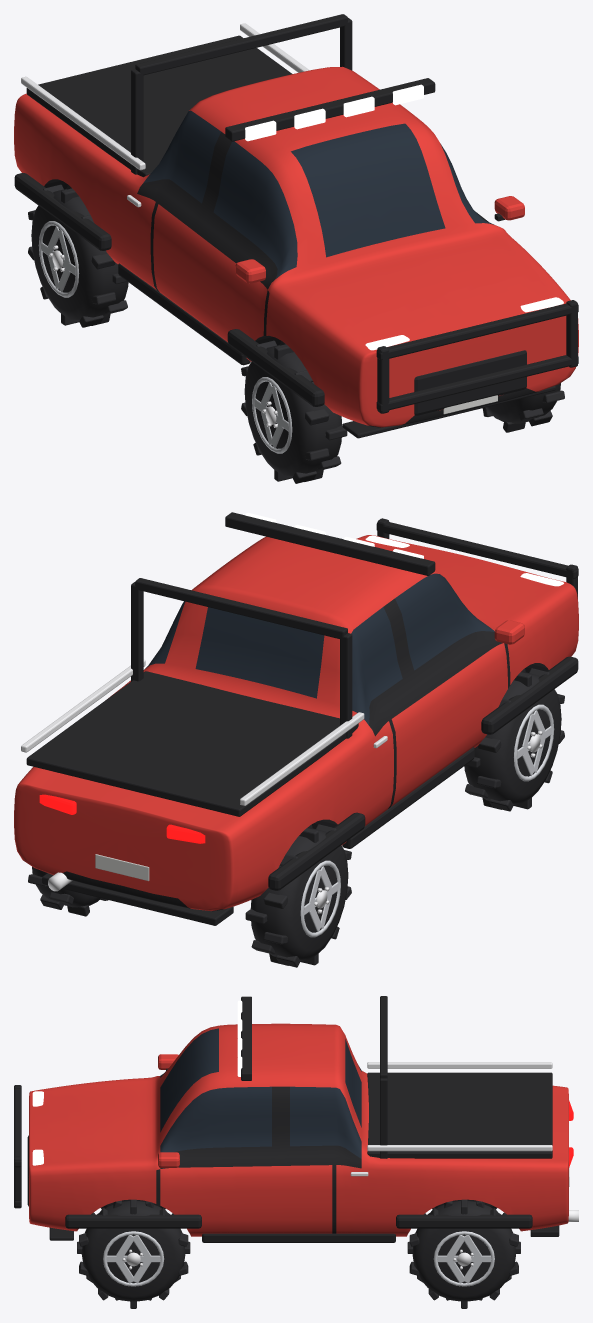
The model's file is tundra_mid.glb.
3 renders of one model, top to bottom at view 1: azimuth 30°, elevation 25°; view 2: azimuth 150°, elevation 25°; view 3: azimuth 270°, elevation 25°, orthographic. The views are drawn at different scales.
Parts seen in each view (by area): view 1: body, wheel_fr, wheel_rr, wheel_fl; view 2: body, wheel_rr, wheel_fr, wheel_rl; view 3: body, wheel_fl, wheel_rl.
Boxes of the visible parts, bbox=[...] form: body: bbox=[14, 14, 578, 438]; wheel_fr: bbox=[241, 340, 347, 483]; wheel_rr: bbox=[28, 184, 128, 327]; wheel_fl: bbox=[482, 383, 564, 432]; body: bbox=[14, 512, 578, 925]; wheel_rr: bbox=[245, 824, 351, 967]; wheel_fr: bbox=[464, 668, 564, 811]; wheel_rl: bbox=[28, 867, 108, 916]; body: bbox=[14, 996, 578, 1242]; wheel_fl: bbox=[77, 1199, 190, 1308]; wheel_rl: bbox=[407, 1199, 520, 1308].
Bounding box in the file's own units: 2.26 × 2.28 × 5.12.
